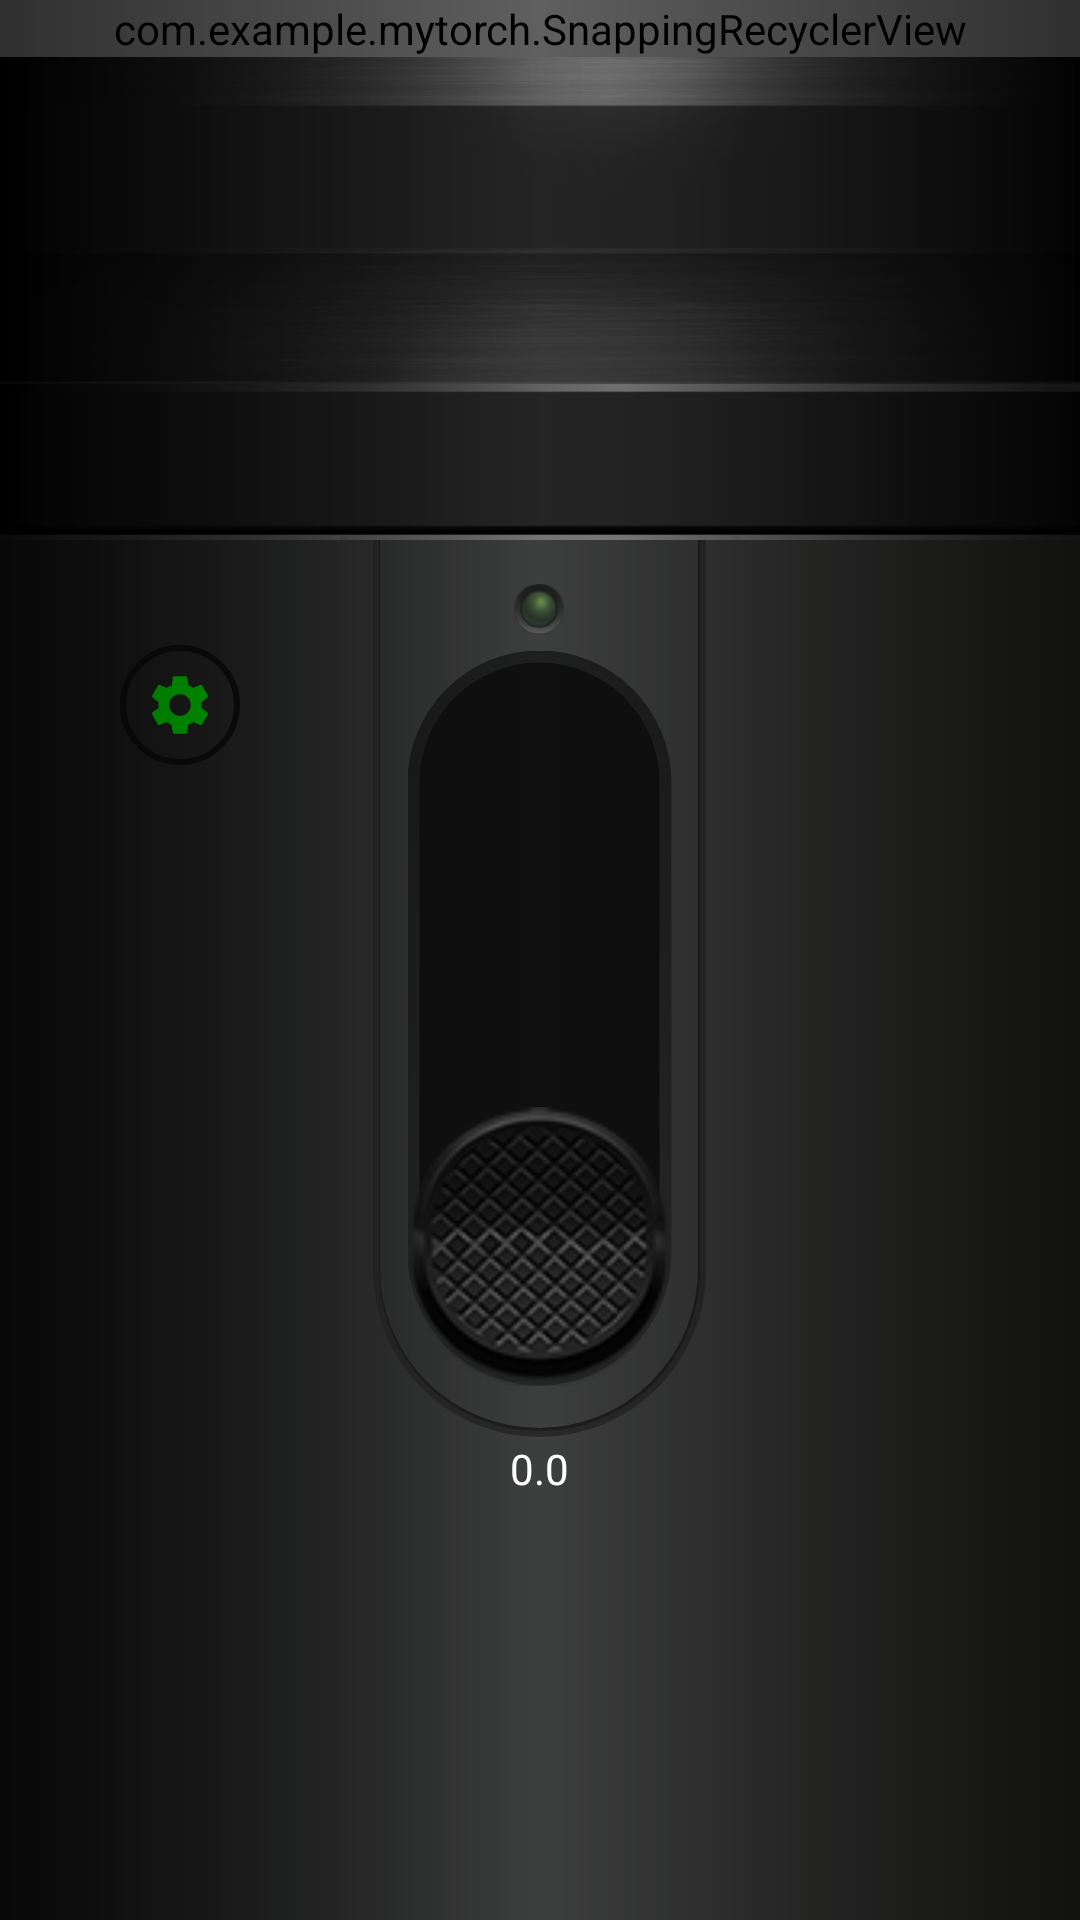

Screen size 1080 × 1920. Icon name, then its box in pixels as bbox=[x1, y1, x2, y2]:
led off: bbox=[514, 584, 564, 634]
settings: bbox=[152, 676, 208, 734]
